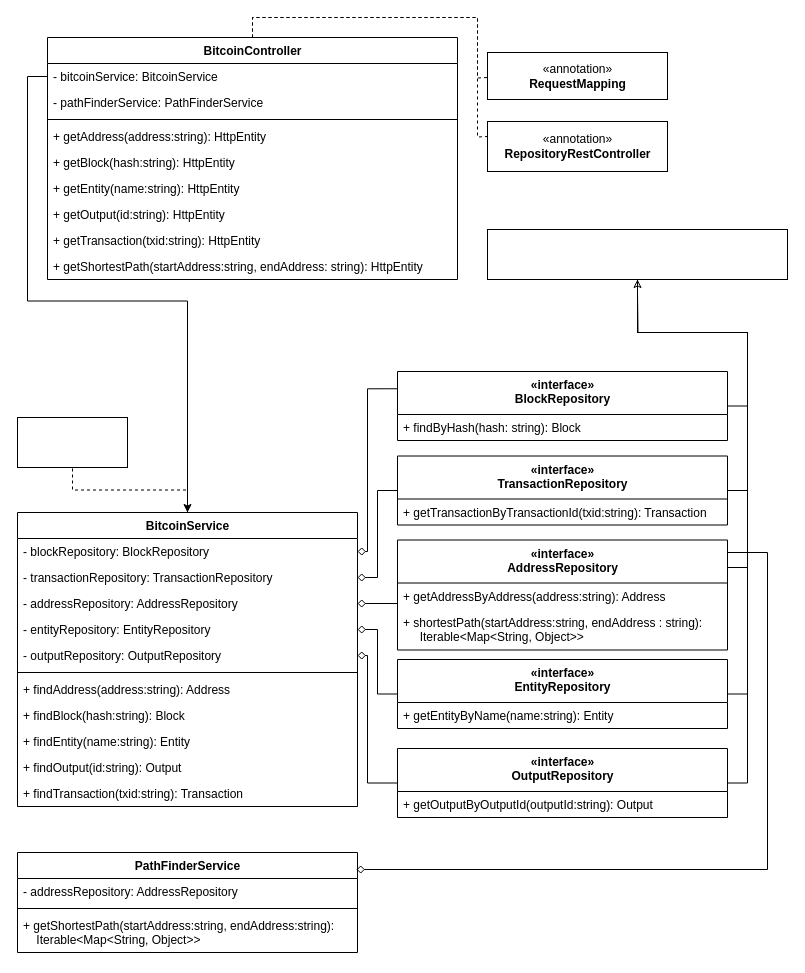
Image size: 805x973. Some labels were removed from this diagram. The shapes that lost their labels are listed below. From the top down, each one's centre as x and y in pixels, then its label:
[637,254]: «interface» Neo4JRepository<T, ID extends Serializable>
[72,442]: «annotation» Service
